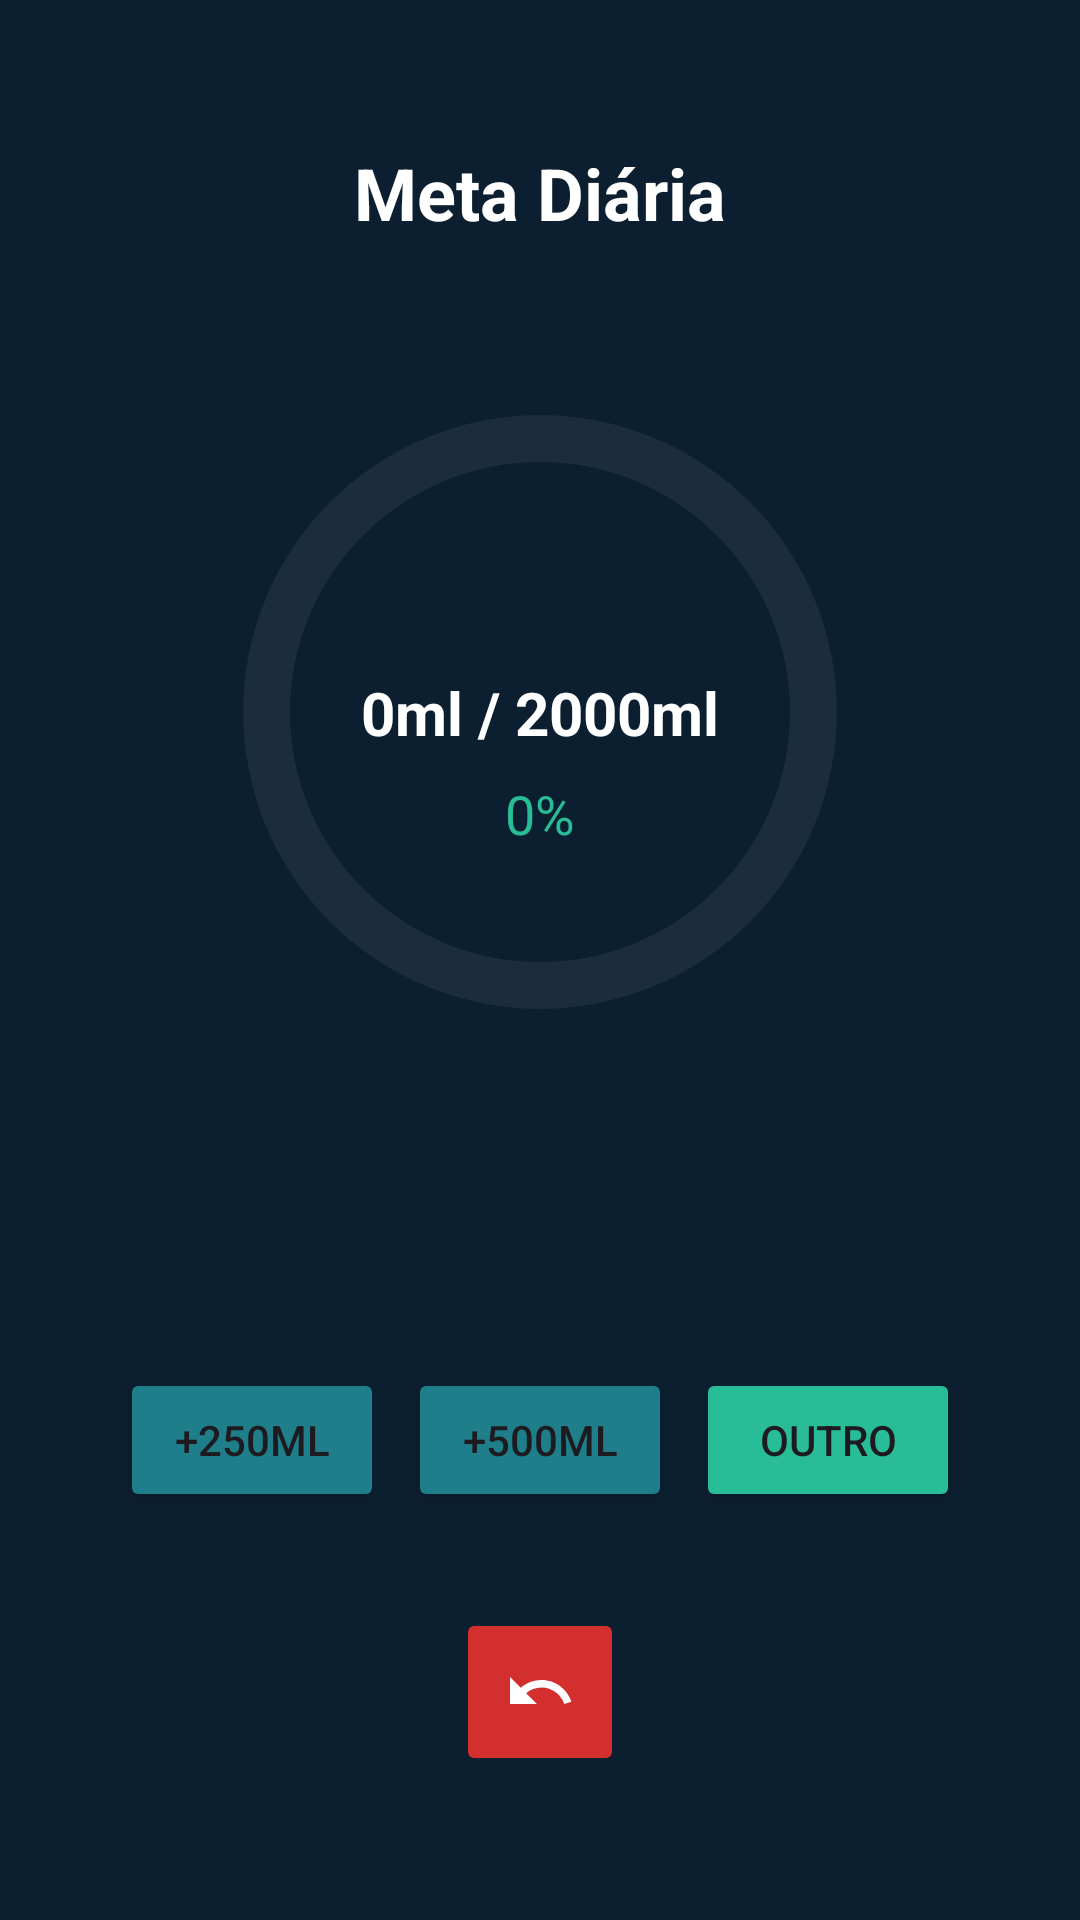

Icons on this 1080*1920 Android screen, each with its box as box(x1, y1, x2, y2):
Desfazer: box(468, 1626, 612, 1758)
